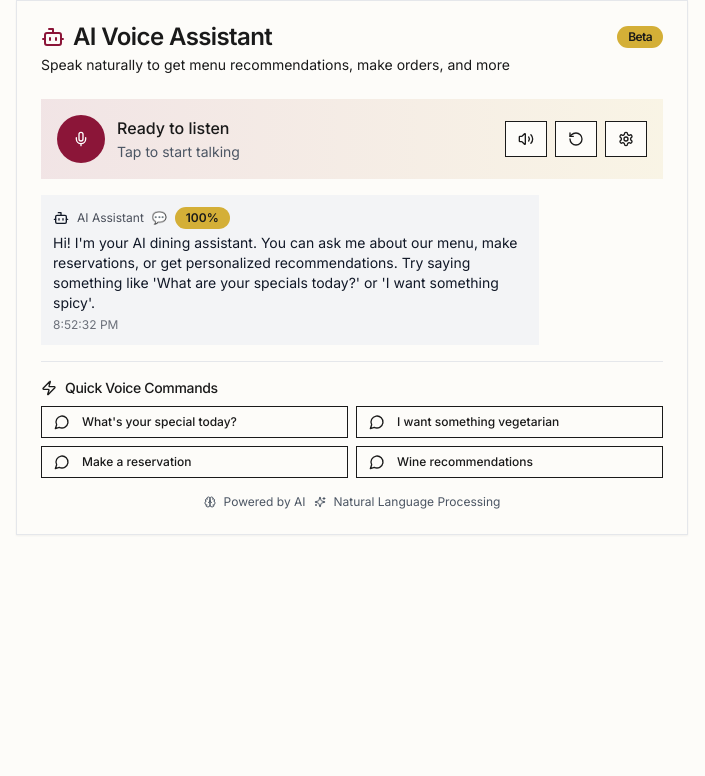
Scenario: VoiceInterface › speaking state › should show speaking state when AI is responding
The width and height of the screenshot is (705, 776).
Click the button "What's your special today?": (194, 422) [41,406,348,438]
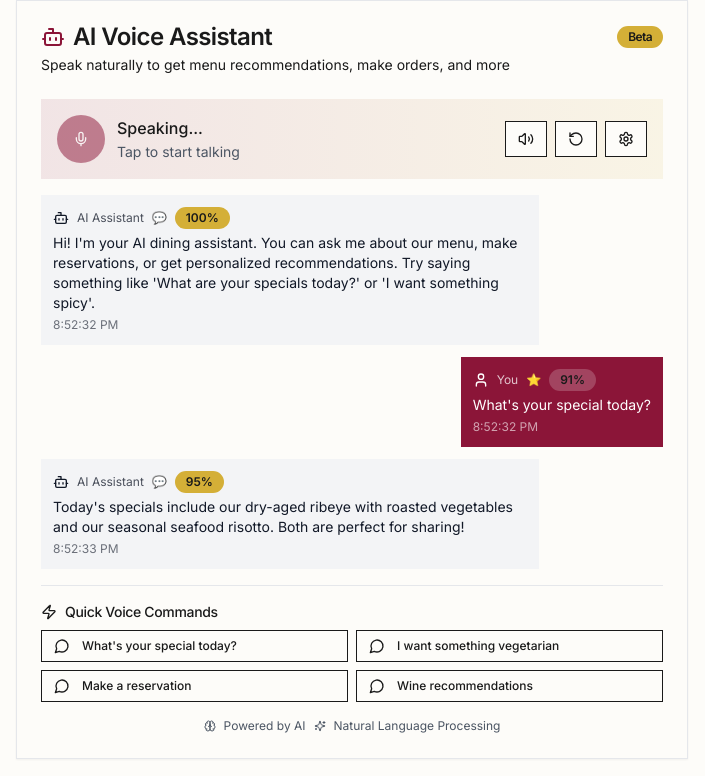
Now the text "Speaking..." is shown, box [117,118,203,138]
